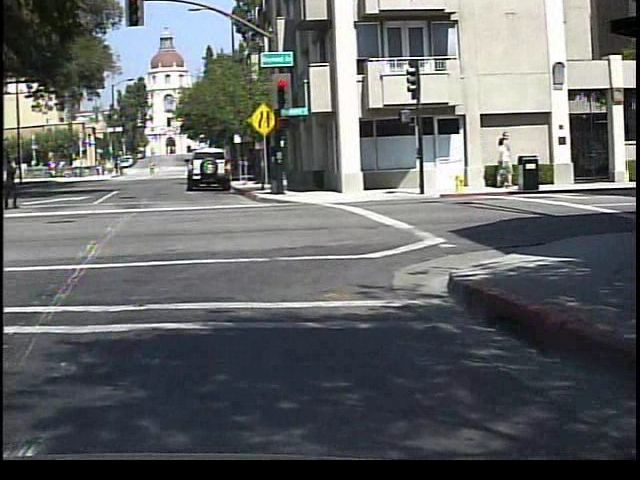person: (3, 169, 30, 229), (4, 156, 27, 213), (147, 161, 157, 179)
